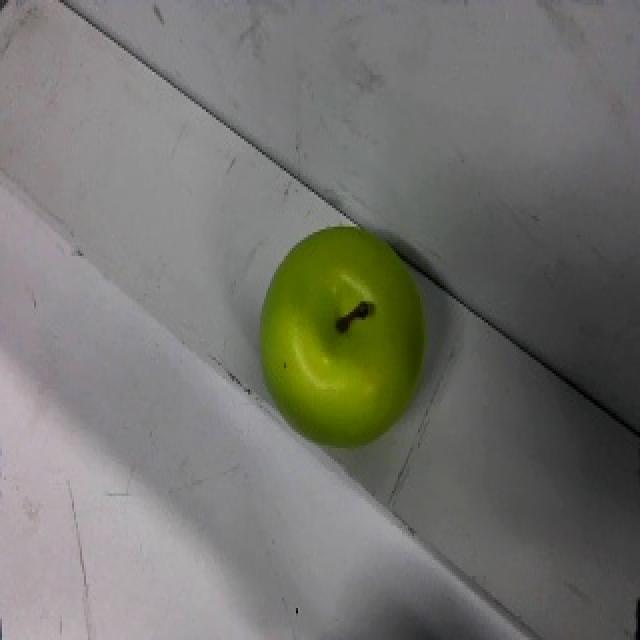apple: (257, 221, 429, 451)
